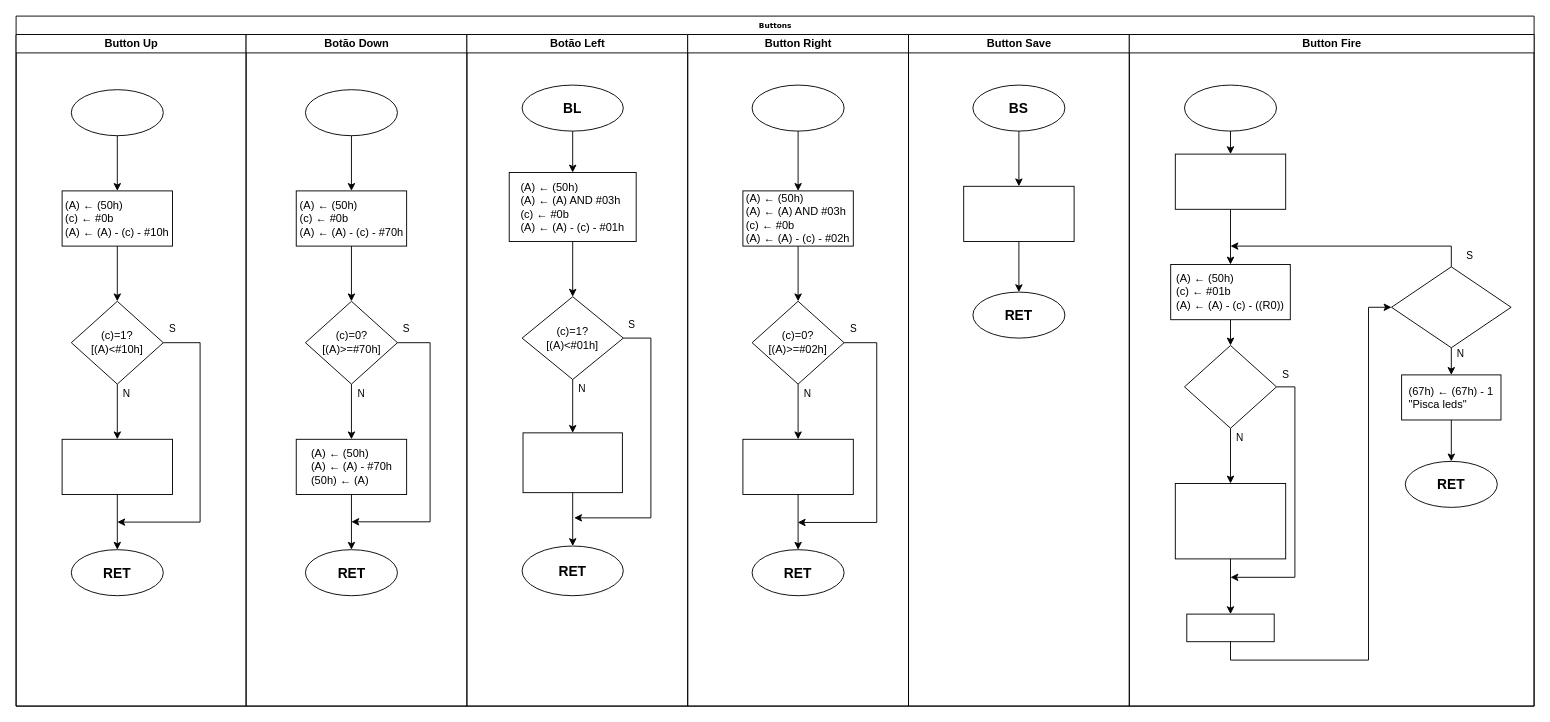
This 1550x722 diagram has some shape labels left out. Here are the shapes that lost their labels. From the top down, the centre of each, then its label:
At (x=116, y=112): "BU".
At (x=351, y=112): "BD".
At (x=797, y=107): "BR".
At (x=1230, y=107): "BF".
At (x=1230, y=181): "(PSW) ← #00h (R0) ← #40h (R1) ← #05h".
At (x=1018, y=213): "(R0) ← (61h) ((R0)) ← (50h) (61h) ← (61h) + 1".
At (x=1451, y=307): "(R1) ← (R1) - 1 (z) != 0?".
At (x=1230, y=386): "(z)=0? [(A) != ((R0))]".
At (x=116, y=466): "(A) ← (50h) (A) ← (A) - #10h (50h) ← (A)".
At (x=572, y=462): "(50h) ← (50h) - 1".
At (x=797, y=466): "(50h) ← (50h) + 1".
At (x=1230, y=521): "(60h) ← (60h) + 1 (A) ← ((R0)) (ACC.7) ← #01b ((R0)) ← (A)".
At (x=1230, y=627): "(R0) ← (R0) + 1".
